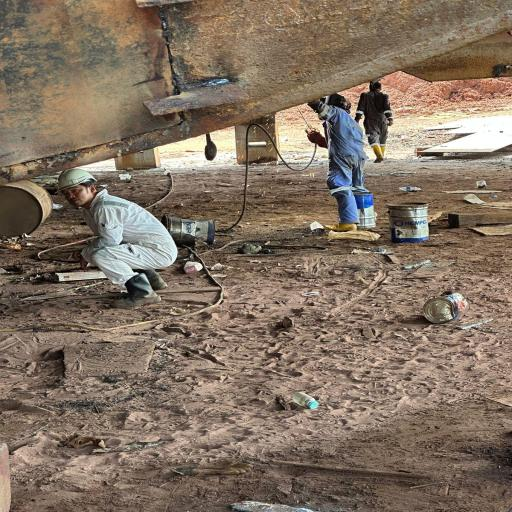safety_shoe: (116, 269, 168, 309), (324, 220, 360, 233), (369, 144, 393, 162)
